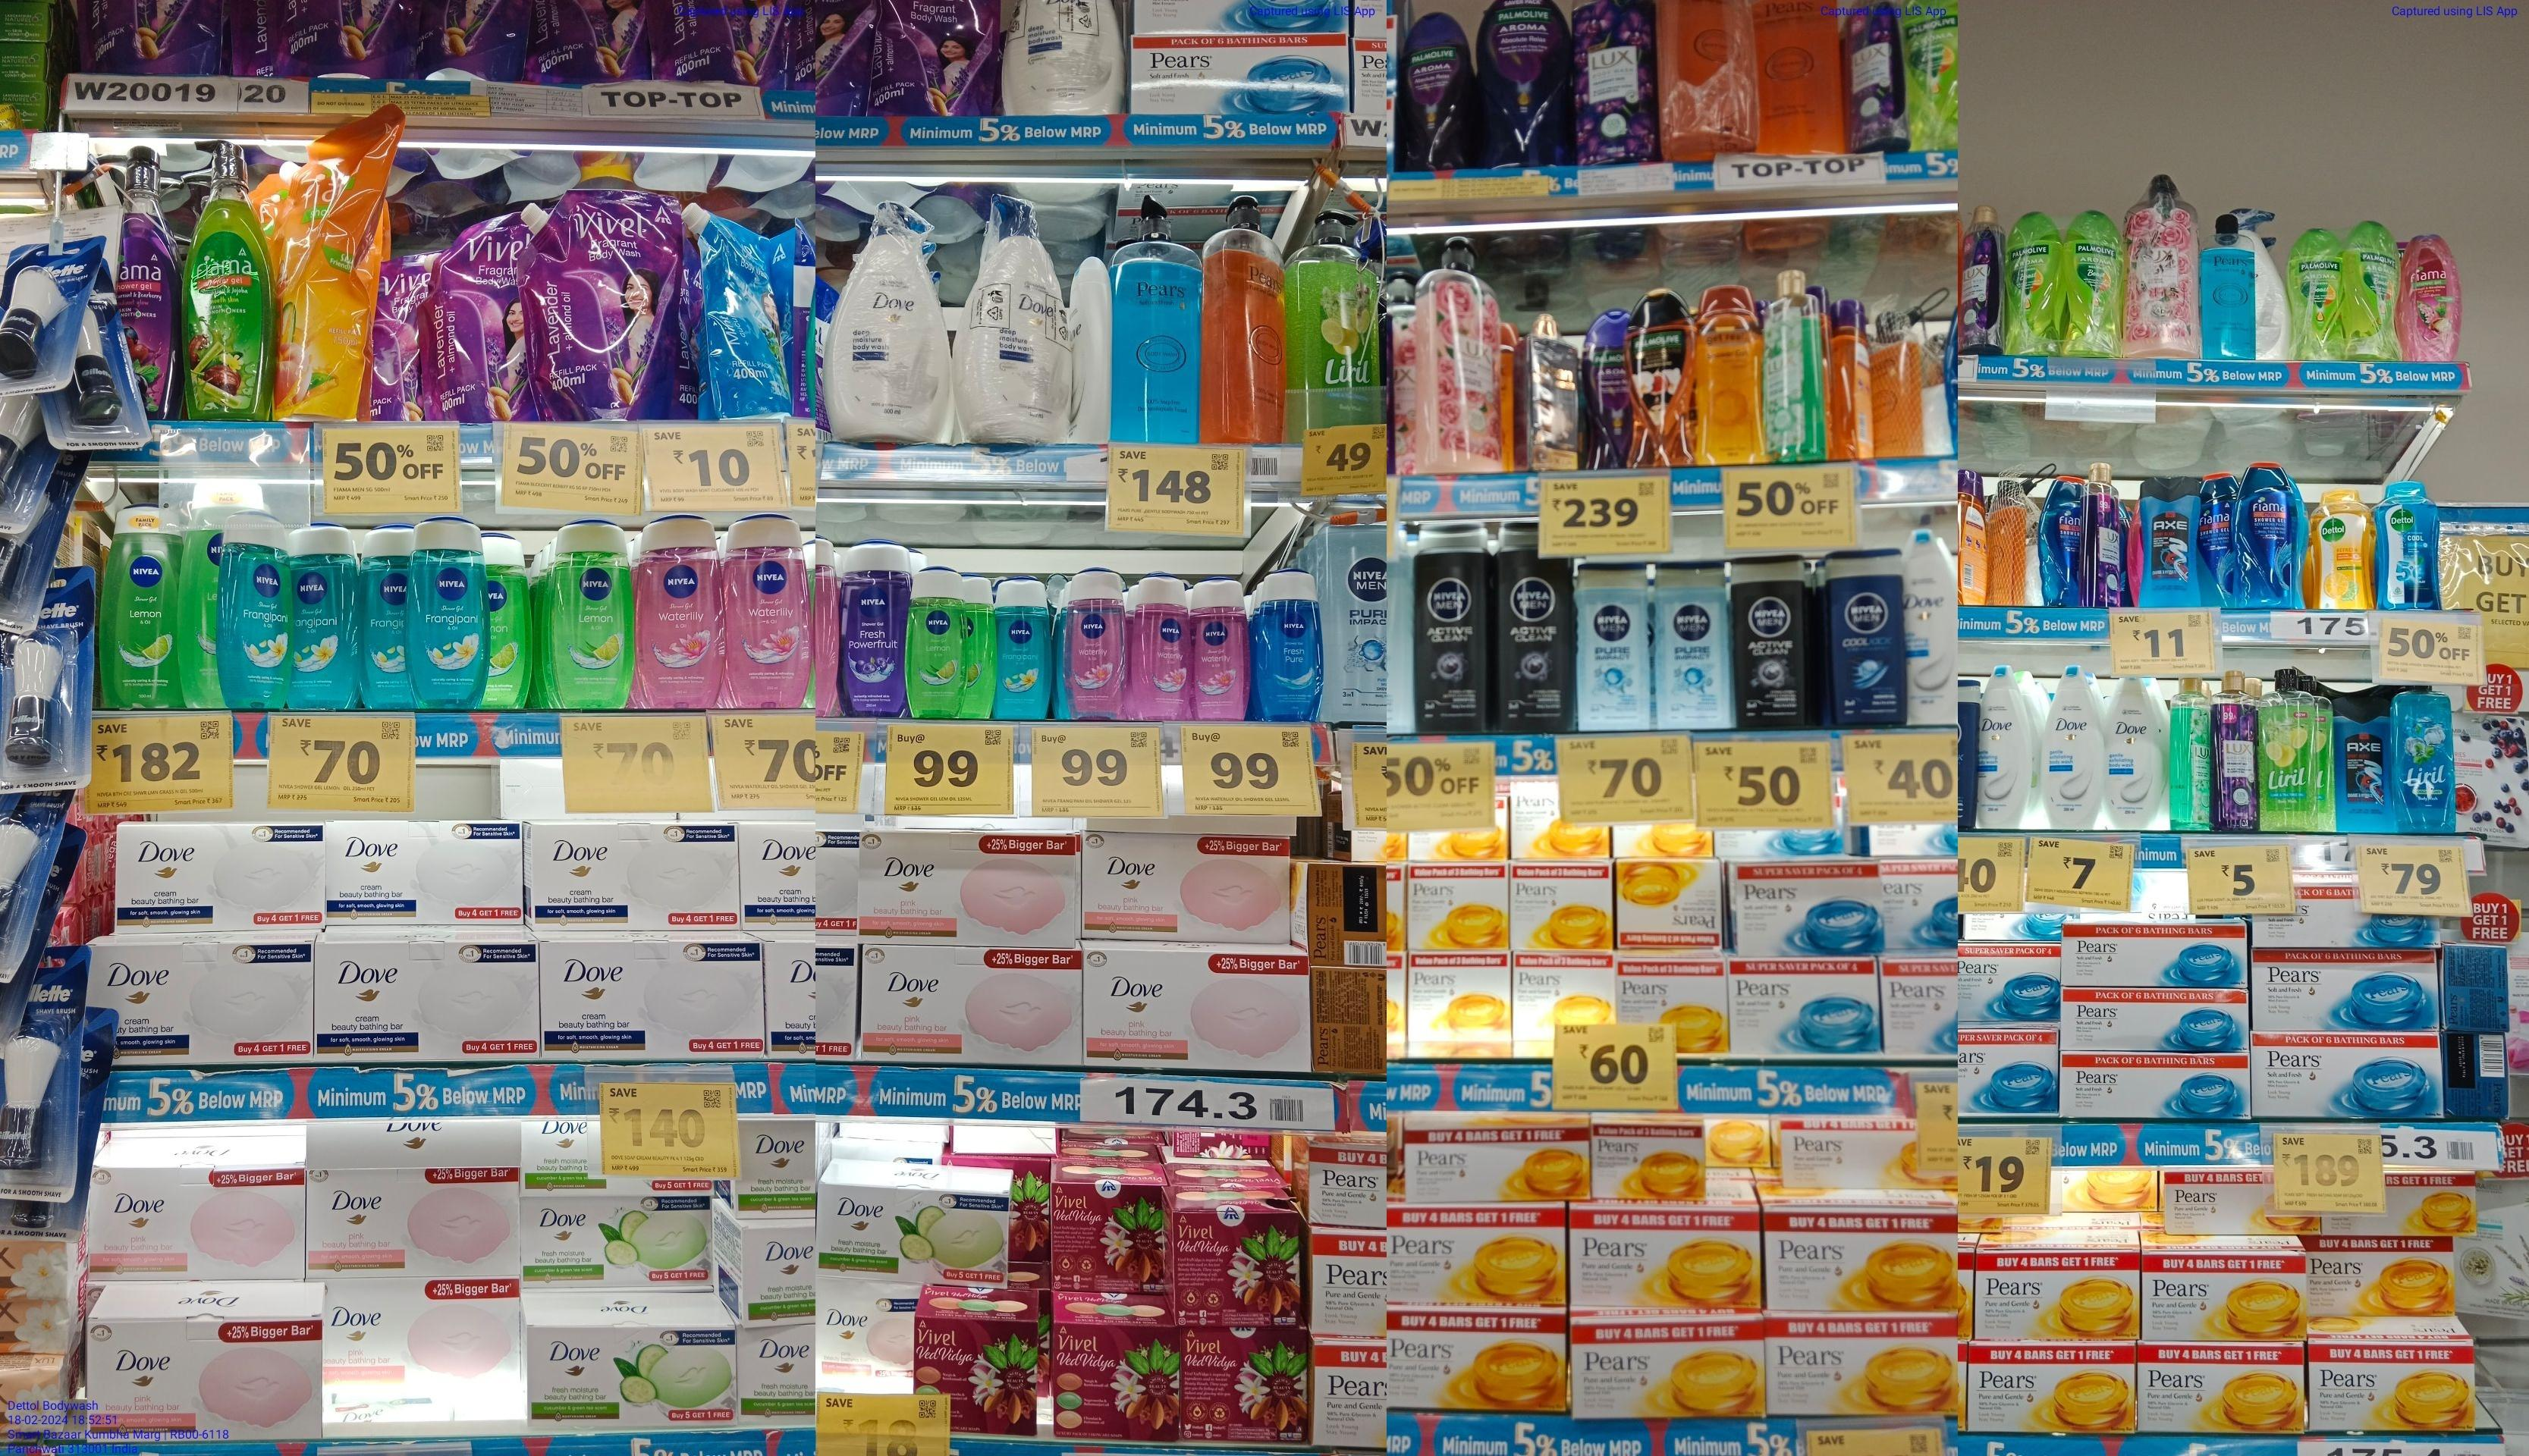Dettol_Bodywash_Cool: (2376, 480, 2437, 608)
Dettol_Bodywash_Refresh: (2308, 492, 2373, 610)
Dove_Gentle_Exfoliating_Body_Wash_250ML: (1902, 530, 1954, 726), (2107, 676, 2168, 829), (2048, 664, 2105, 825), (1980, 665, 2032, 829)
Fiama_Shower_Gel_Patchouli_and_Macadamia_250ML: (2400, 235, 2461, 363)
Get_Real_Shower_Gel_Moisturising_Glycerin_300ML: (1697, 287, 1761, 464)
Liril_Cooling_Mint_Body_Wash_250ML: (2392, 685, 2458, 836)
Liril_Lime_and_Tea_Tree_Oil_Body_Wash_250ML: (2267, 667, 2319, 832)
Lux_Black_Orchid_Scent_and_Juniper_Oil_Body_Wash_245ML: (2211, 669, 2256, 831), (1961, 203, 1999, 354)
Lux_Body_Wash_Skin_Detox_Freesia_Scent_and_Alove_Vera_245ML: (1766, 271, 1826, 459), (2171, 678, 2209, 827)
Nivea_Shower_Gel_Frangipani_and_Oil_250ML: (412, 513, 485, 711), (221, 511, 290, 709), (292, 523, 358, 709), (358, 526, 408, 709)
Nivea_Shower_Gel_Fresh_Powerfruit_250ML: (839, 544, 905, 718)
Nivea_Shower_Gel_Lemon_and_Oil_250ML: (540, 523, 632, 707), (101, 502, 177, 707)
Nivea_Shower_Gel_Waterlily_and_Oil_250ML: (637, 514, 726, 711), (728, 513, 809, 704)
Palmolive_Aroma_Morning_Tonic_Shower_Gel_250ML: (2003, 210, 2062, 358), (2065, 212, 2121, 356), (2288, 222, 2343, 361), (2347, 219, 2397, 361)
Palmolive_Aroma_Relax_250ML: (1581, 306, 1626, 469)
Palmolive_Luminous_Oils_With_White_Orchid_Shower_Gel_250ML: (1631, 285, 1695, 467)
Pears_Pure_Glycerin_and_Mint_Extracts_Body_Wash_250ML: (2199, 217, 2258, 363)
